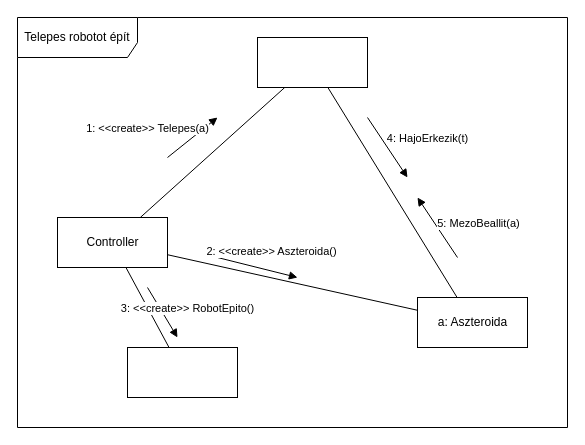
Image size: 585x445. Some labels were removed from this diagram. Here are the shapes that lost their labels. From the top down, the centre of each, then its label:
At [312,62]: "t: Telepes".
At [182,372]: "e: RobotEpito".
